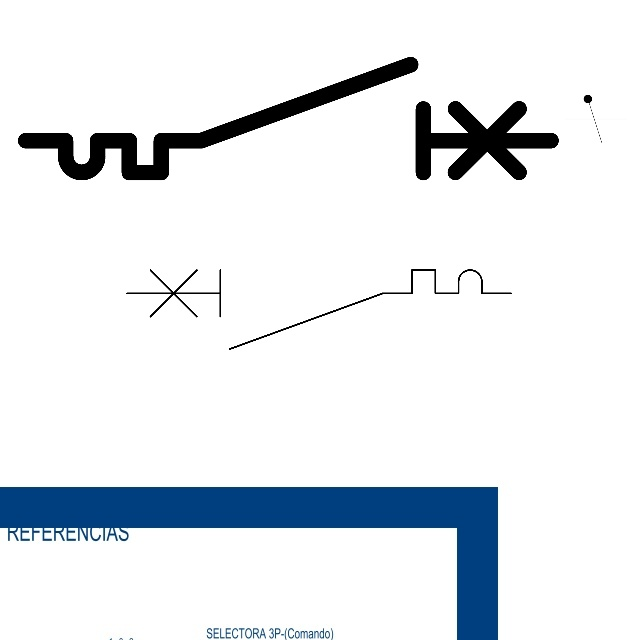interruptor_termomagnetico: (12, 51, 565, 186), (117, 260, 521, 359)
